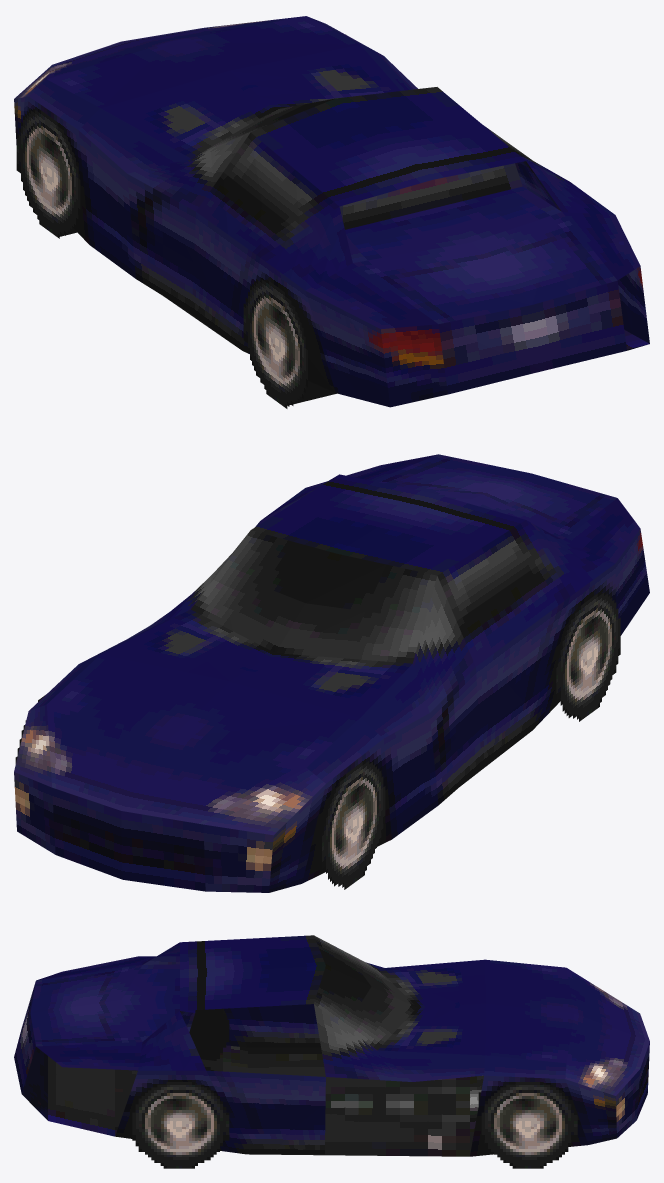
File: car-dviper.glb
The picture shows the model from 3 angles, top to bottom: view 1: azimuth 30°, elevation 25°; view 2: azimuth 150°, elevation 25°; view 3: azimuth 270°, elevation 25°; orthographic projection. The views are drawn at different scales.
Visible parts, largest first — view 1: car-dviper; view 2: car-dviper; view 3: car-dviper.
Boxes of the visible parts, x1,y1,x2,y2 form: car-dviper: [14, 16, 649, 408]; car-dviper: [14, 454, 649, 892]; car-dviper: [14, 935, 649, 1168].
Size of the model in its own units: 1.93 by 1.15 by 4.52.
37 materials, 37 textured.
